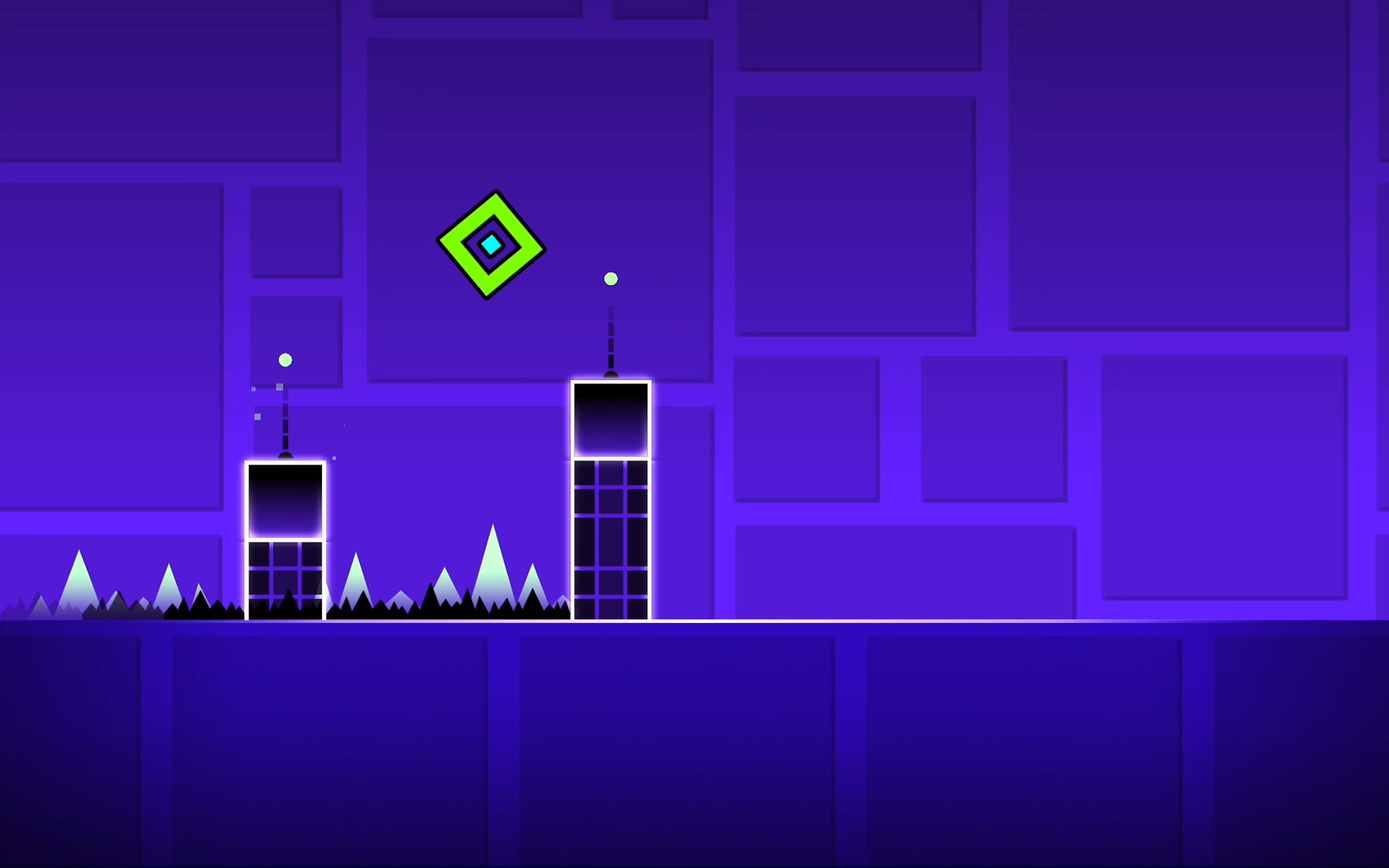Block: (244, 461, 325, 539), (572, 379, 650, 458)
Block2: (572, 461, 650, 621), (246, 540, 325, 619)
Player: (436, 190, 545, 298)
Spike2: (328, 592, 570, 622), (1, 594, 244, 622)
